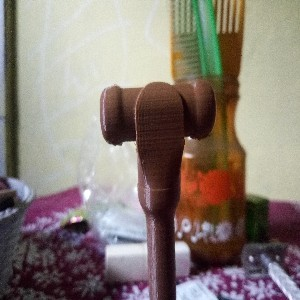palu: (99, 79, 217, 300)
